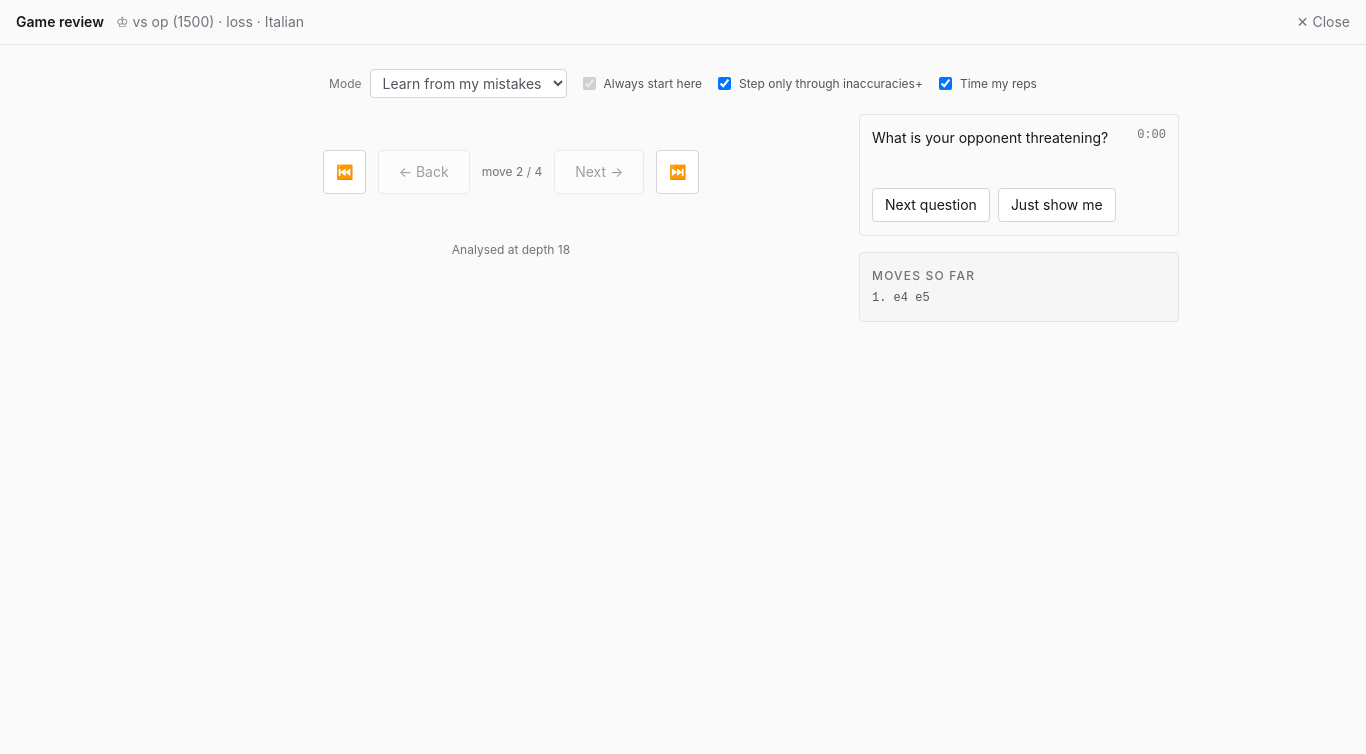
Test: commit outcomes › Just show me reveals and writes no row
Click the button "Just show me".
click(1057, 205)  # box [998,188,1116,222]
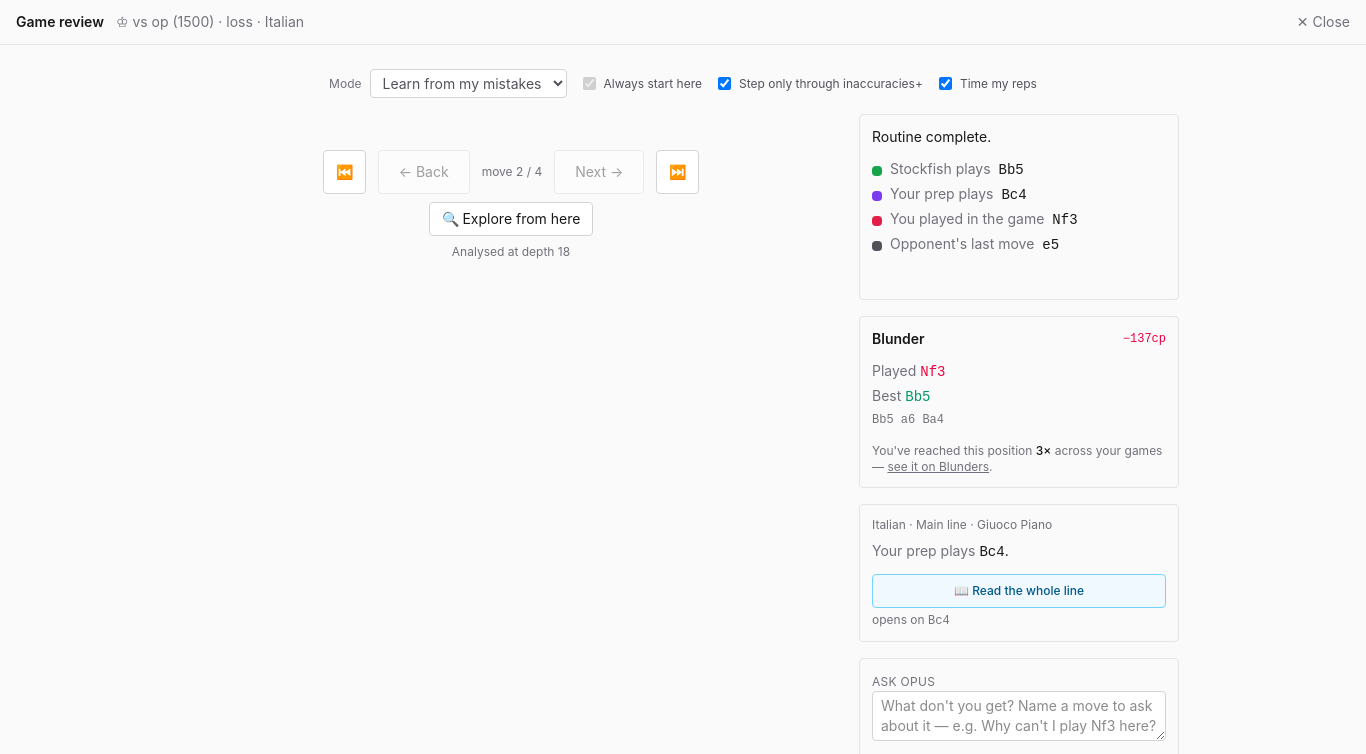
Now the text "Routine complete." is shown, box [872,128,991,145]
Now the text "Bc4" is shown, box [1002,185,1027,205]
